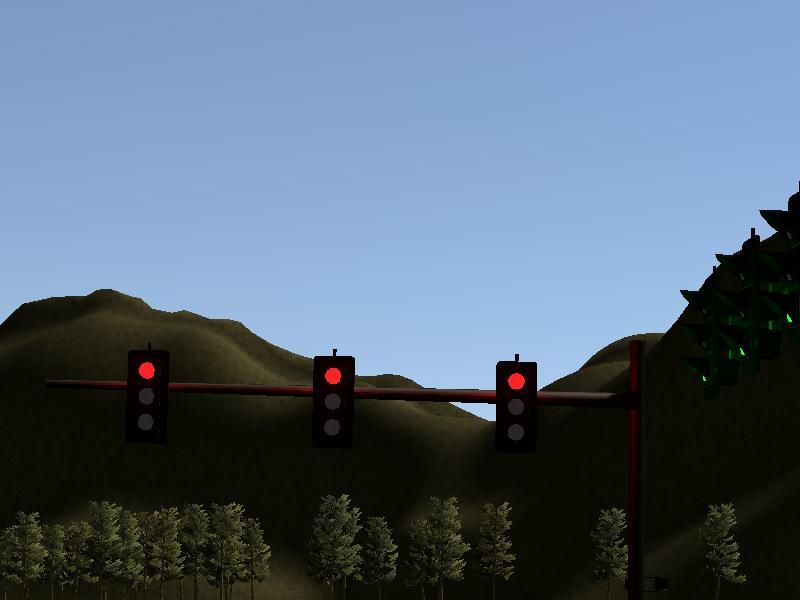Red: (497, 360, 537, 449), (126, 350, 164, 441), (316, 356, 351, 447)
